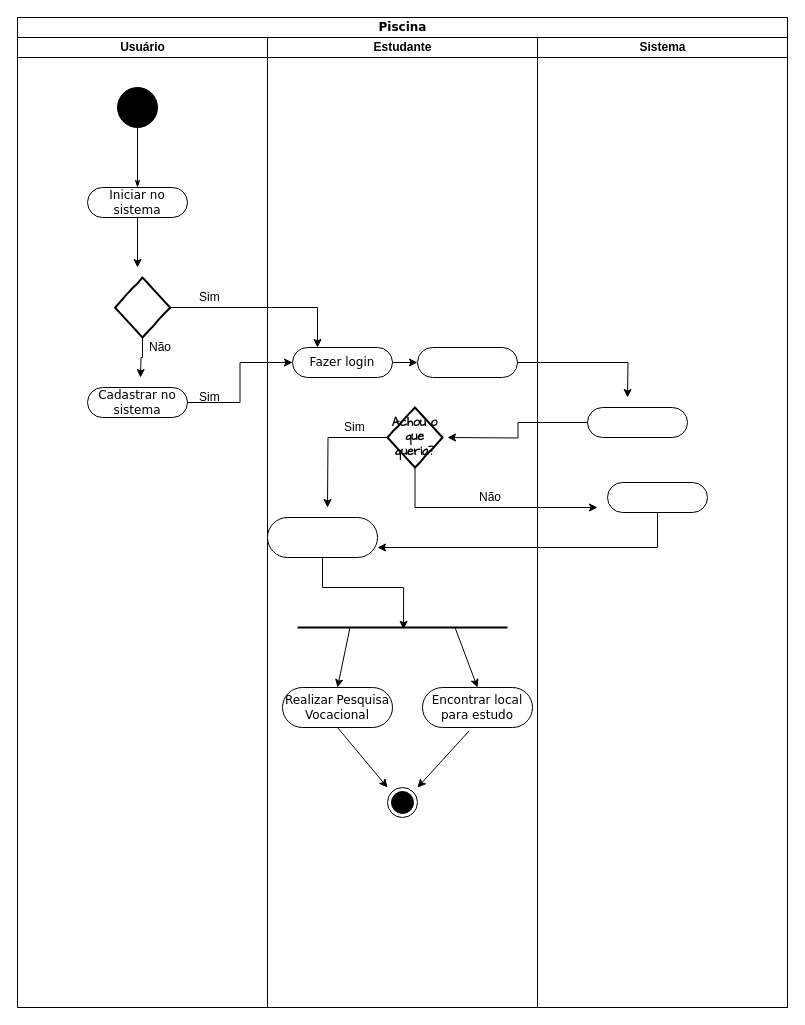
The diagram is 805 pixels wide and 1025 high, and some of its shapes have lost their labels. The shapes that lost their labels are listed below. From the top down, each one's centre as x and y in pixels, then its label:
At pixel 142 307: "Possui cadastro?".
At pixel 467 362: "Acessar tópico".
At pixel 637 422: "Fornecer conteudo".
At pixel 657 497: "Procurar pelo campo search".
At pixel 322 537: "Estudar conteudo".
